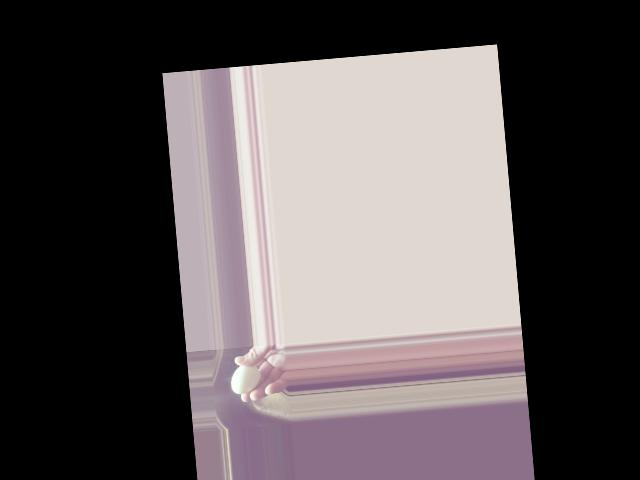egg: (229, 363, 261, 394)
